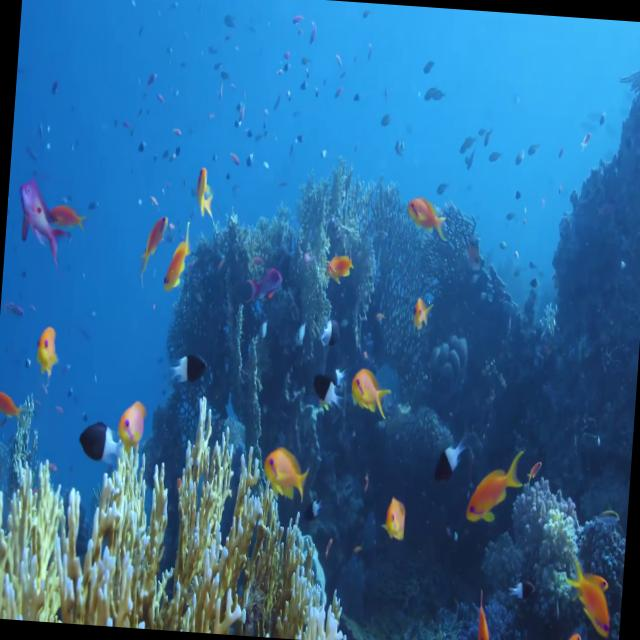fish: (461, 442, 526, 543), (8, 167, 74, 265), (254, 439, 318, 514), (564, 566, 619, 640), (400, 180, 454, 247), (424, 414, 476, 483), (74, 412, 128, 472), (346, 360, 396, 424), (156, 225, 194, 306), (168, 332, 212, 399), (304, 356, 352, 414), (316, 238, 366, 292), (184, 157, 220, 231), (26, 322, 69, 382), (372, 489, 413, 551), (136, 200, 164, 286), (107, 393, 145, 456), (466, 581, 503, 640), (42, 186, 84, 233), (408, 283, 438, 340), (0, 381, 20, 422), (551, 621, 585, 640)
